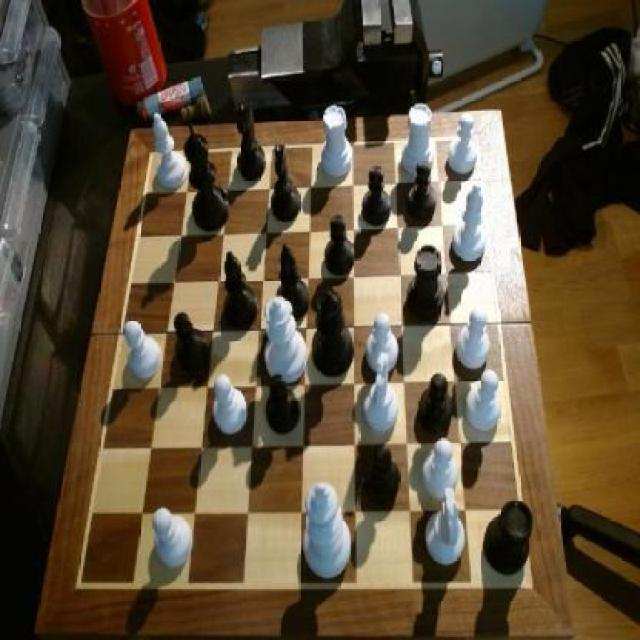bishop: (218, 248, 260, 329), (275, 242, 311, 319)
black-bishop: (183, 123, 230, 230), (312, 284, 355, 376)
black-king: (232, 98, 266, 181), (268, 143, 302, 225)
black-knight: (170, 310, 212, 378), (418, 372, 454, 435), (364, 446, 400, 506), (324, 215, 358, 278), (266, 377, 302, 435), (406, 158, 439, 220), (362, 165, 394, 226)
black-queen: (486, 497, 537, 578), (406, 245, 446, 323)
black-rook: (149, 112, 187, 191), (451, 186, 487, 268)
white-bishop: (301, 477, 354, 582)
white-king: (423, 489, 469, 568), (363, 354, 401, 435)
white-knight: (151, 505, 194, 570), (123, 318, 163, 382), (422, 437, 461, 502), (463, 368, 501, 433), (456, 306, 492, 373), (212, 375, 250, 438), (364, 314, 400, 376), (446, 112, 479, 176)
white-pawn: (262, 295, 308, 381)
white-queen: (318, 102, 354, 179), (402, 103, 436, 176)
